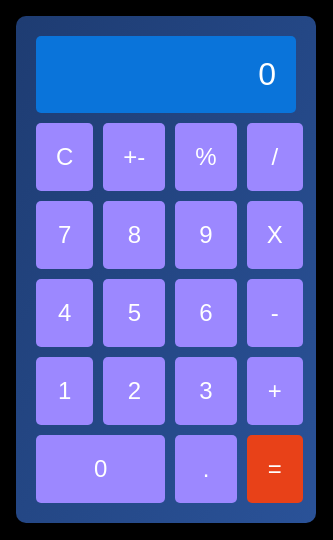
it: Calculator performs basic addition
What coordinates should you click on to do the following:
click the button "2"
I would click on:
 (134, 391)
Its box is x1=103 y1=357 x2=165 y2=425.
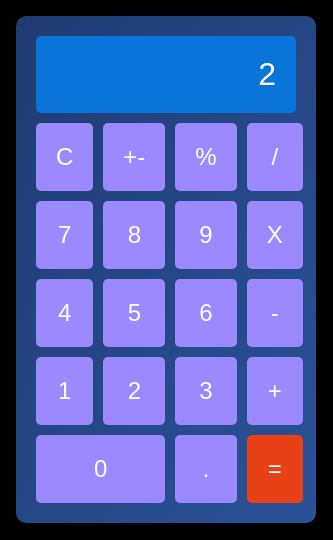
What coordinates should you click on to do the following:
click the button "+"
I would click on:
 (275, 391)
Its box is x1=247 y1=357 x2=303 y2=425.
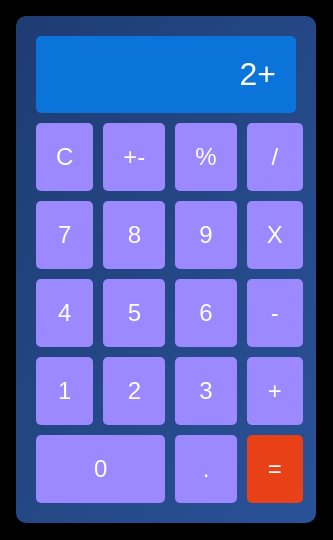
What coordinates should you click on to do the following:
click the button "3"
I would click on:
 (206, 391)
Its box is x1=175 y1=357 x2=237 y2=425.
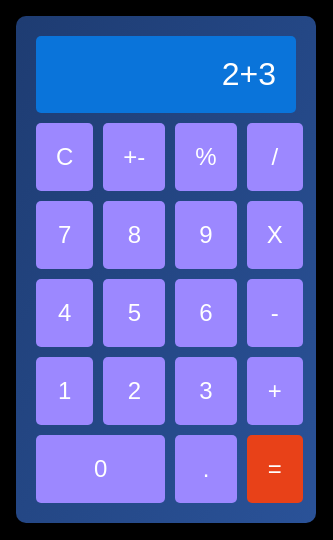
What coordinates should you click on to do the following:
click the button "="
I would click on:
 (275, 469)
Its box is x1=247 y1=435 x2=303 y2=503.
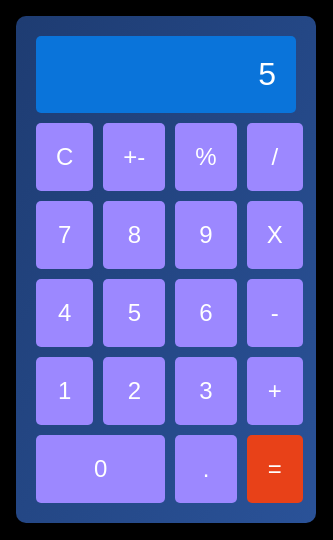
Now the text with test id "display" reads "5", box x1=258 y1=56 x2=276 y2=92
